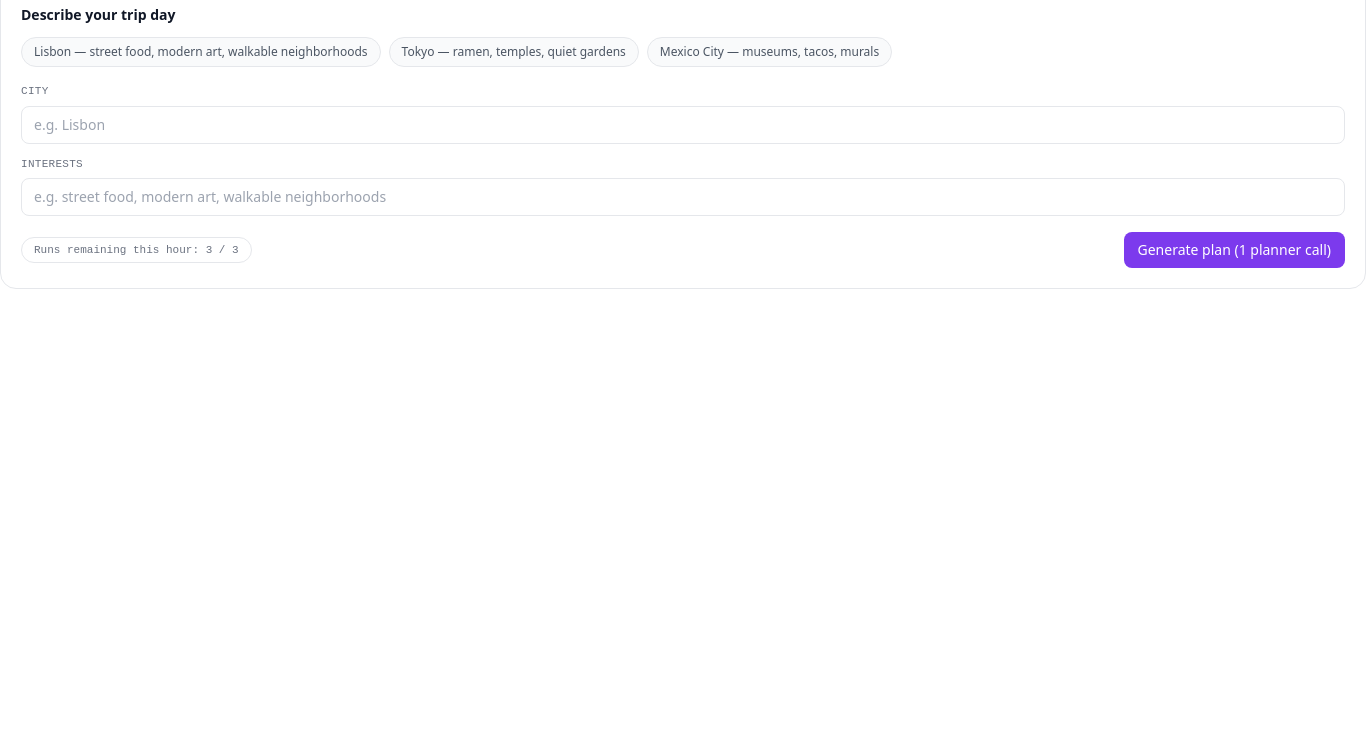
Test: the executing panel › renders each step result progressively as it arrives
Type "Lisbon" into the field labelled "City" at (683, 124), box x1=21 y1=106 x2=1345 y2=144
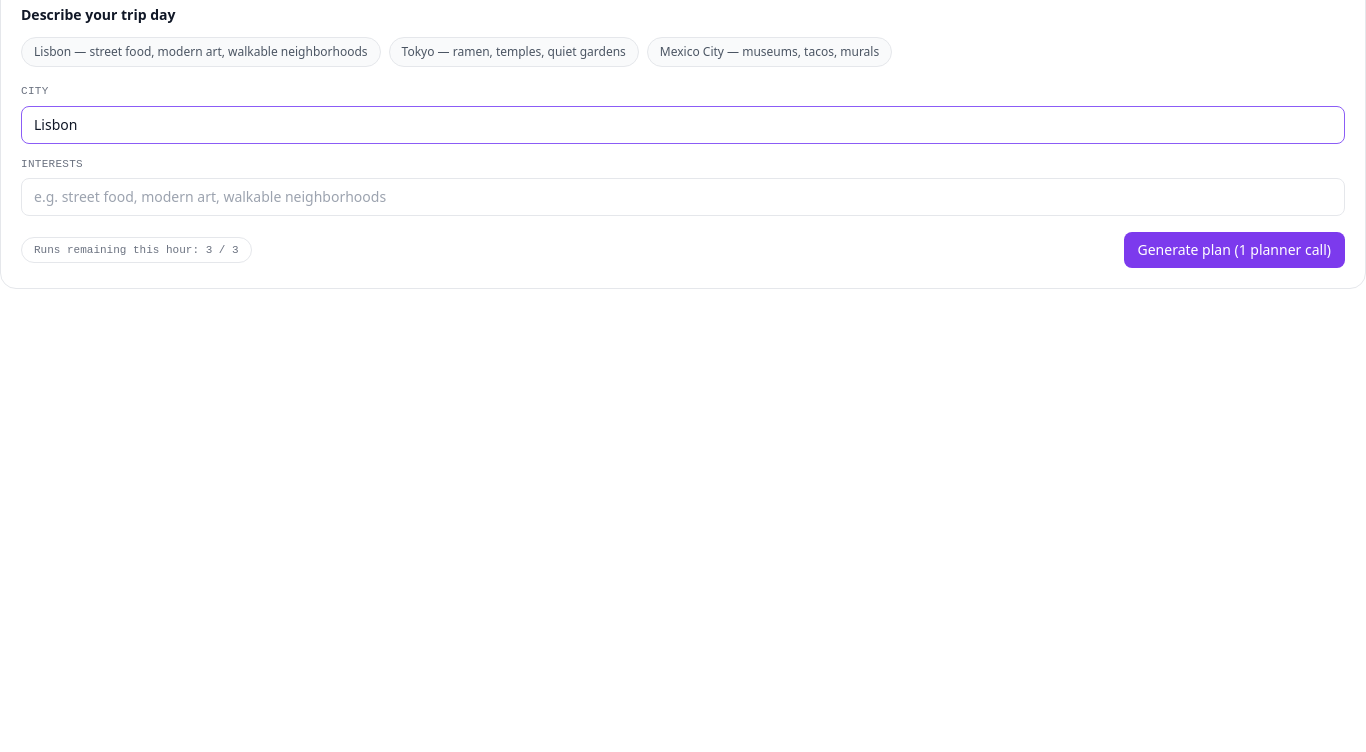
Type "street food, modern art" into the field labelled "Interests" at (683, 197), box x1=21 y1=178 x2=1345 y2=216
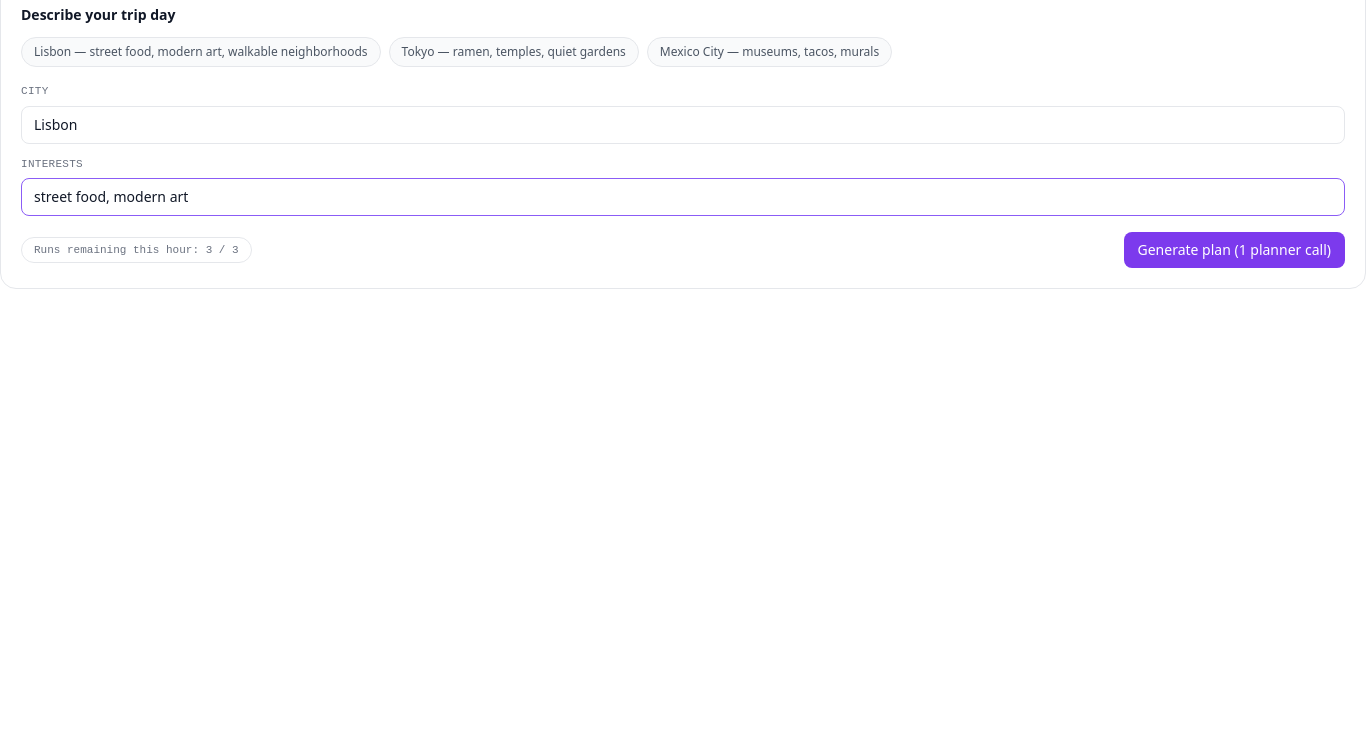
Click the button "Generate plan (1 planner call)" at (1234, 250), box x1=1124 y1=232 x2=1345 y2=268
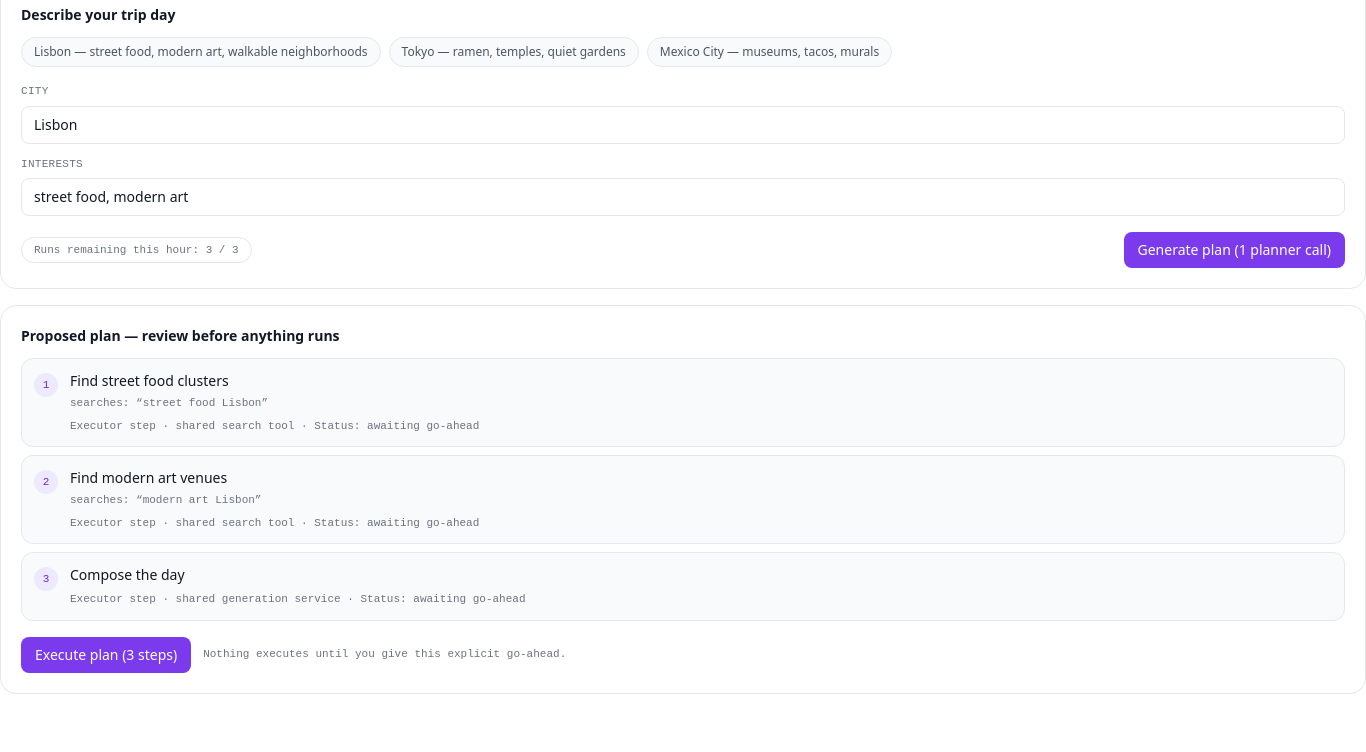
Click the button "Execute plan (3 steps)" at (106, 654), box x1=21 y1=636 x2=191 y2=672
(page scrolled)
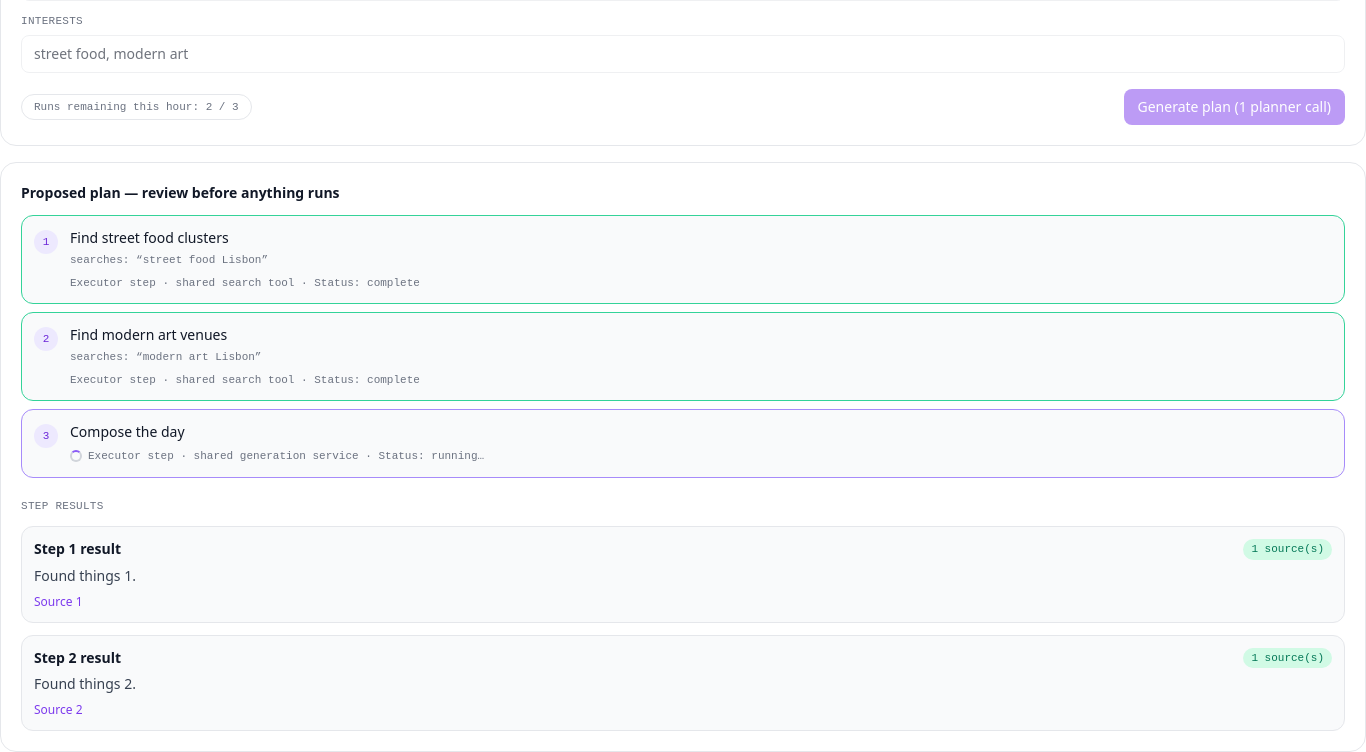
Check: the text "Step 1 result" is shown, box x1=34 y1=539 x2=121 y2=559
Check: the text "Step 2 result" is shown, box x1=34 y1=648 x2=121 y2=668
